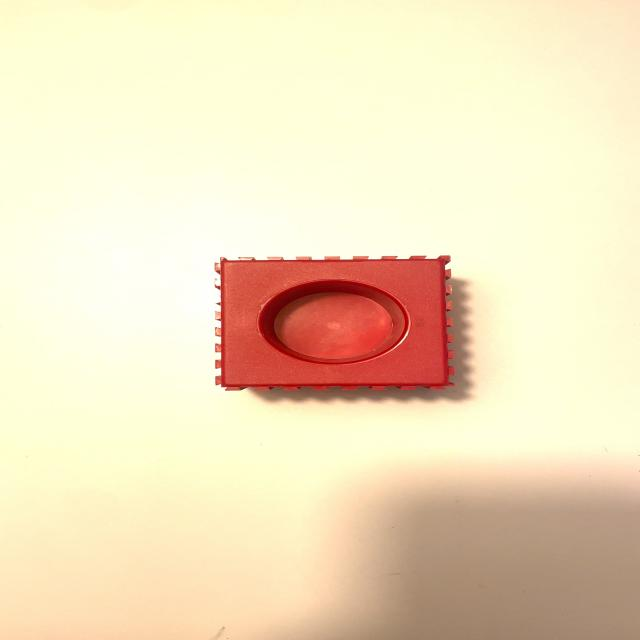Empty_Slot: (214, 256, 453, 390)
